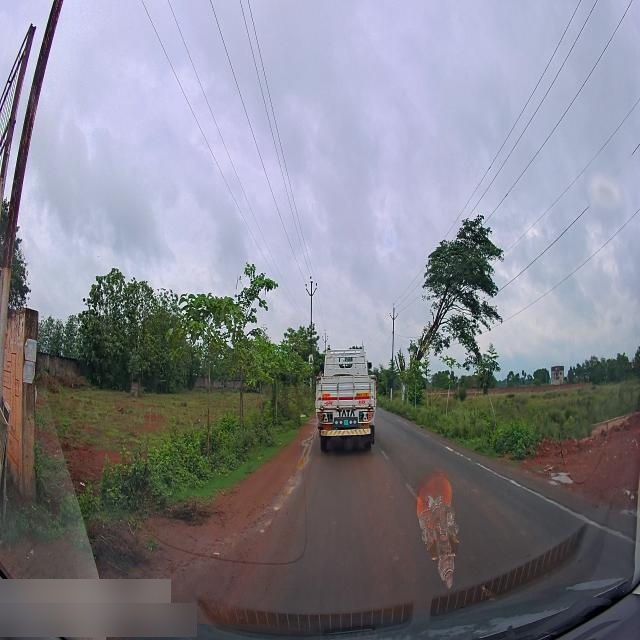pothole: (549, 467, 572, 485), (285, 477, 302, 497), (269, 500, 283, 513), (260, 522, 269, 534)
